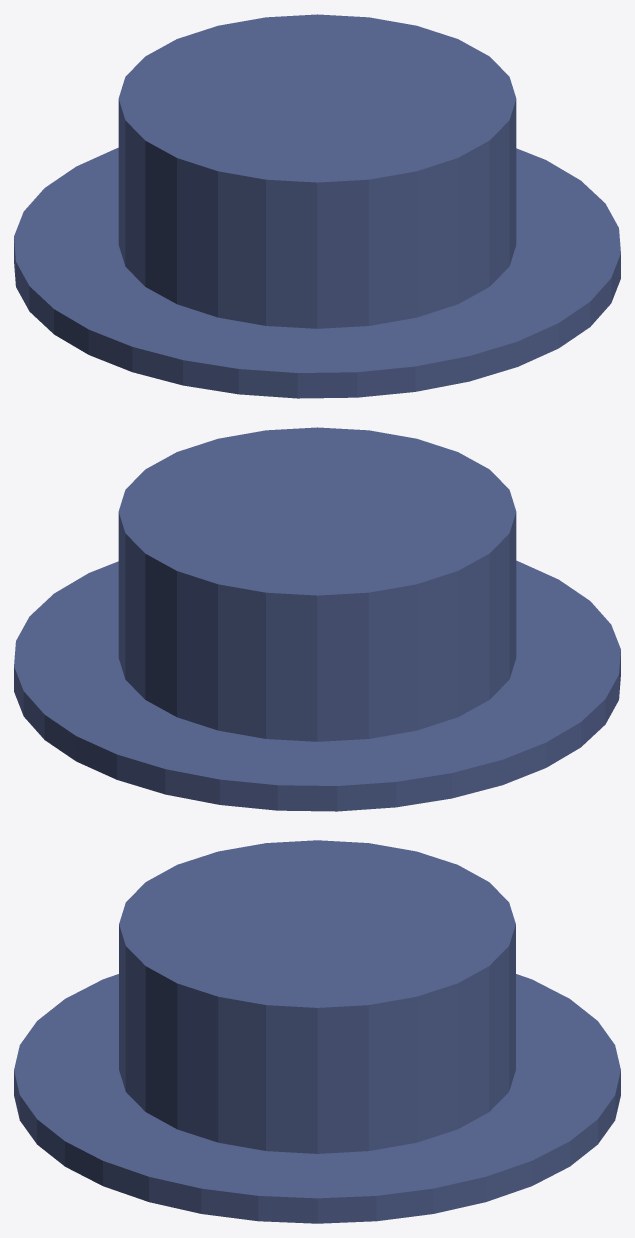
Rendered from navy_ladies_hat_officer_wo_me3_to_me8.glb.
3 renders of one model, top to bottom at view 1: azimuth 30°, elevation 25°; view 2: azimuth 150°, elevation 25°; view 3: azimuth 270°, elevation 25°, orthographic.
Parts seen in each view (by area): view 1: hat_crown, hat_brim; view 2: hat_crown, hat_brim; view 3: hat_crown, hat_brim.
Part boxes in pixels (x1,y1,x2,y2): hat_crown: (118,14,516,328); hat_brim: (14,147,620,398); hat_crown: (118,427,516,741); hat_brim: (14,560,620,811); hat_crown: (119,840,515,1153); hat_brim: (14,974,620,1223).
Bounding box in the file's own units: 0.26 × 0.081 × 0.26.
